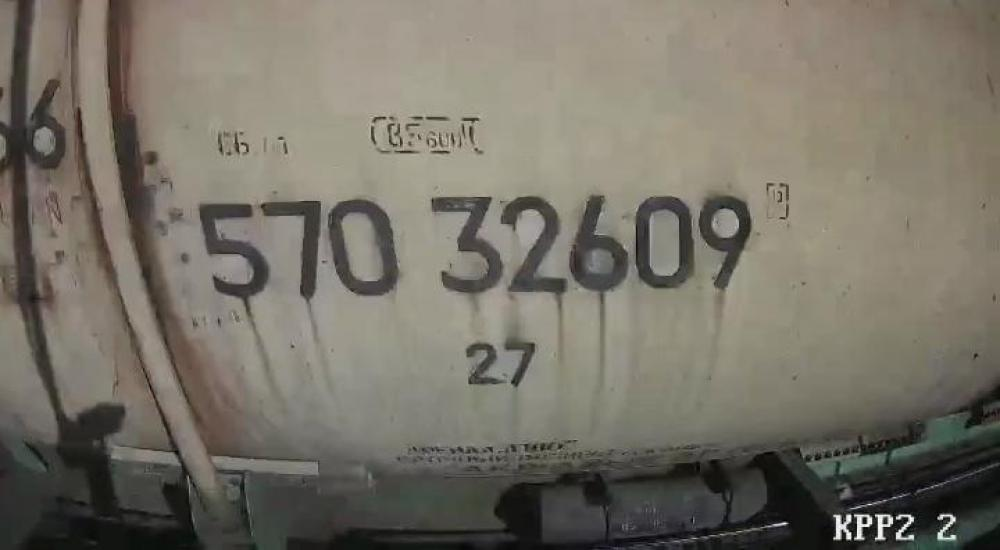Wagon-number: (195, 188, 757, 295)
